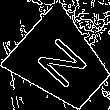N_SE: (30, 31, 93, 94)
